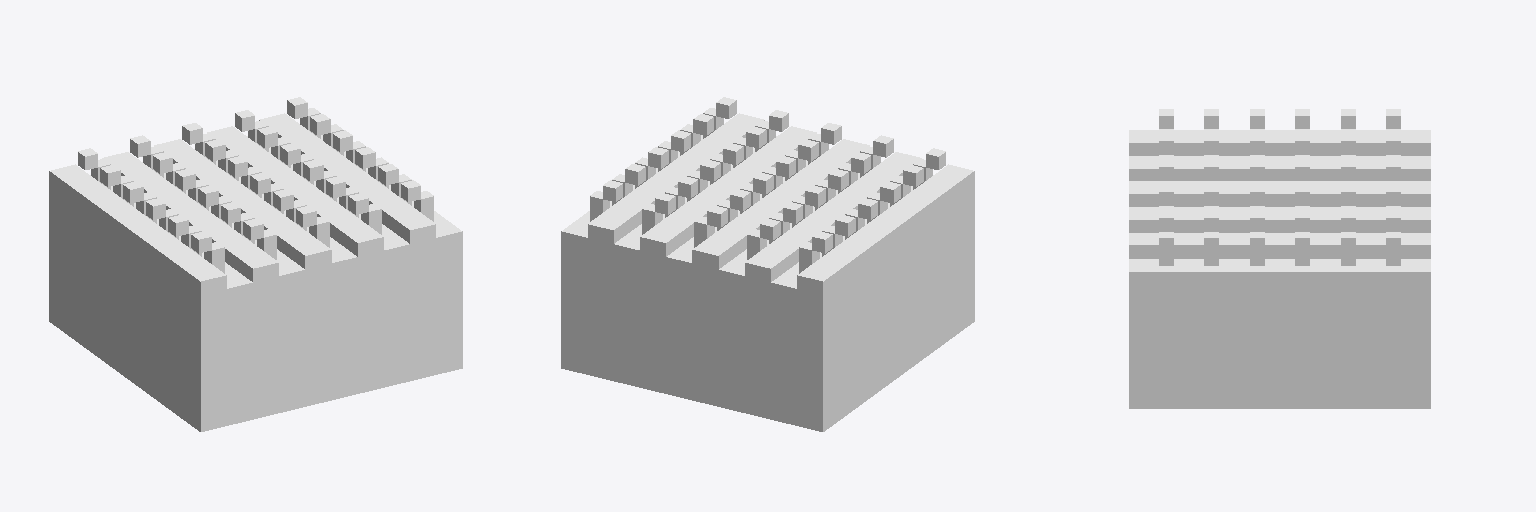
File: Carrots_Level_2.obj
The picture shows the model from 3 angles: view 1: azimuth 30°, elevation 25°; view 2: azimuth 150°, elevation 25°; view 3: azimuth 270°, elevation 25°; orthographic projection.
Parts seen in each view (by area): view 1: Carrots_Level_2; view 2: Carrots_Level_2; view 3: Carrots_Level_2.
Part boxes in pixels (left/top/right/bottom): Carrots_Level_2: left=49, top=97, right=462, bottom=431; Carrots_Level_2: left=561, top=97, right=974, bottom=431; Carrots_Level_2: left=1129, top=109, right=1430, bottom=408.
Bounding box in the file's own units: 20 × 13 × 20.